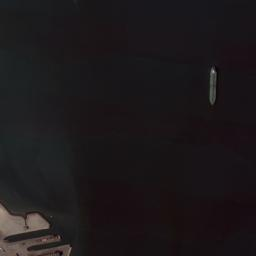boat: (209, 65, 216, 104)
